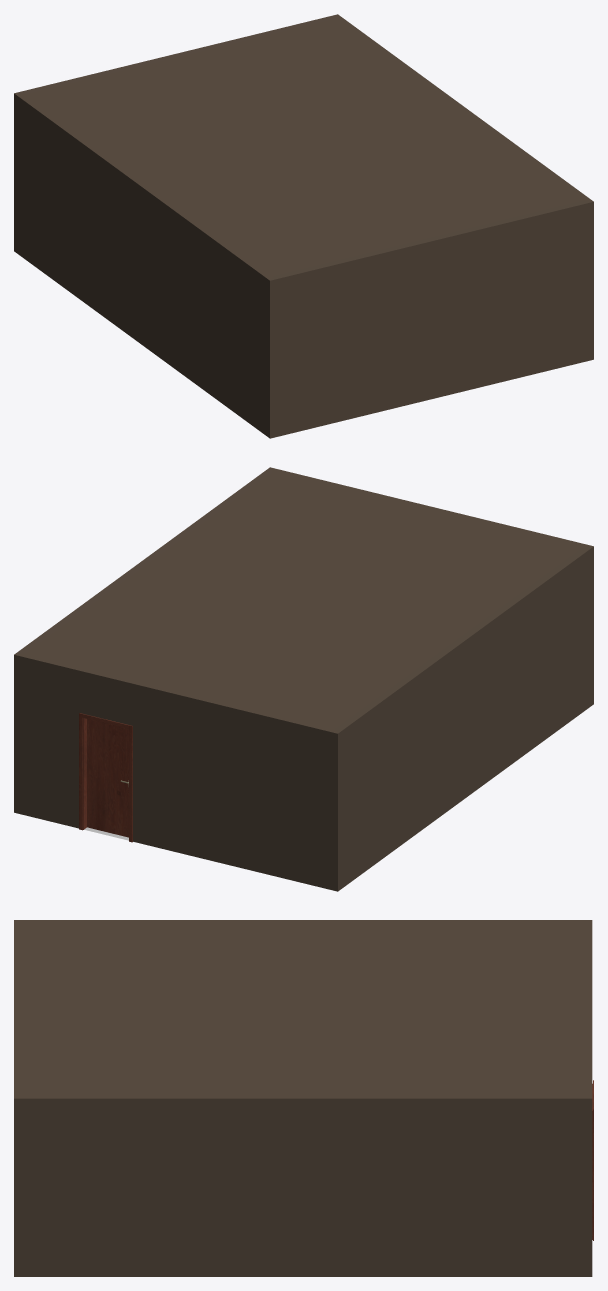
Rendered from porta_e_pareti_.fbx.
3 renders of one model, top to bottom at view 1: azimuth 30°, elevation 25°; view 2: azimuth 150°, elevation 25°; view 3: azimuth 270°, elevation 25°, orthographic. The views are drawn at different scales.
Visible parts, largest first — view 1: pareti; view 2: pareti, 1_Door, 2_Frame; view 3: pareti.
Boxes of the visible parts, x1=… form: pareti: x1=14, y1=14, x2=593, y2=438; pareti: x1=14, y1=467, x2=593, y2=891; 1_Door: x1=87, y1=719, x2=128, y2=837; 2_Frame: x1=79, y1=713, x2=132, y2=842; pareti: x1=14, y1=920, x2=592, y2=1276.
Size of the model in its own units: 632 by 295 by 868.
